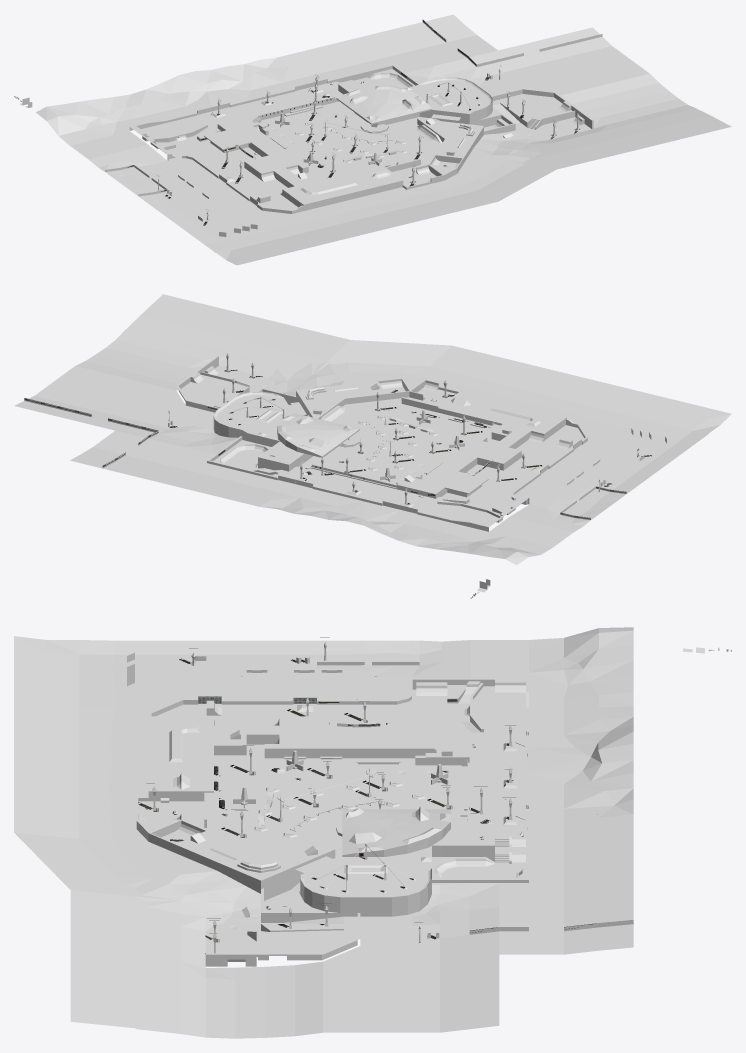
The model's file is t2_ven.glb.
3 renders of one model, top to bottom at view 1: azimuth 30°, elevation 25°; view 2: azimuth 150°, elevation 25°; view 3: azimuth 270°, elevation 25°, orthographic. The views are drawn at different scales.
Visible parts, largest first — view 1: SKVEN_Col_Floor, SKVEN_Col_Ride, SKVEN_Col_Pipe, SKVEN_Col_Wall, SKVEN_Atlas; view 2: SKVEN_Col_Floor, SKVEN_Col_Ride, SKVEN_Col_Pipe, SKVEN_Col_Wall, SKVEN_Atlas; view 3: SKVEN_Col_Floor, SKVEN_Col_Ride, SKVEN_Col_Pipe, SKVEN_Col_Wall, SKVEN_Atlas.
Part boxes in pixels (left/top/right/bottom): SKVEN_Col_Floor: left=14, top=14, right=731, bottom=265; SKVEN_Col_Ride: left=105, top=21, right=602, bottom=213; SKVEN_Col_Pipe: left=130, top=69, right=591, bottom=204; SKVEN_Col_Wall: left=14, top=69, right=579, bottom=236; SKVEN_Atlas: left=127, top=20, right=580, bottom=225; SKVEN_Col_Floor: left=14, top=294, right=731, bottom=597; SKVEN_Col_Ride: left=24, top=356, right=626, bottom=531; SKVEN_Col_Pipe: left=183, top=366, right=578, bottom=527; SKVEN_Col_Wall: left=168, top=353, right=666, bottom=598; SKVEN_Atlas: left=24, top=369, right=651, bottom=519; SKVEN_Col_Floor: left=14, top=627, right=731, bottom=1038; SKVEN_Col_Ride: left=136, top=662, right=633, bottom=966; SKVEN_Col_Pipe: left=112, top=678, right=528, bottom=961; SKVEN_Col_Wall: left=127, top=642, right=731, bottom=953; SKVEN_Atlas: left=138, top=658, right=596, bottom=953.
Size of the model in its own units: 335 by 22.58 by 263.
Materials: 15 (14 with a texture image).
